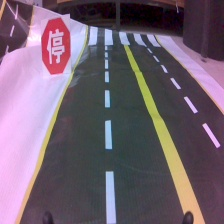stop: (39, 14, 73, 77)
